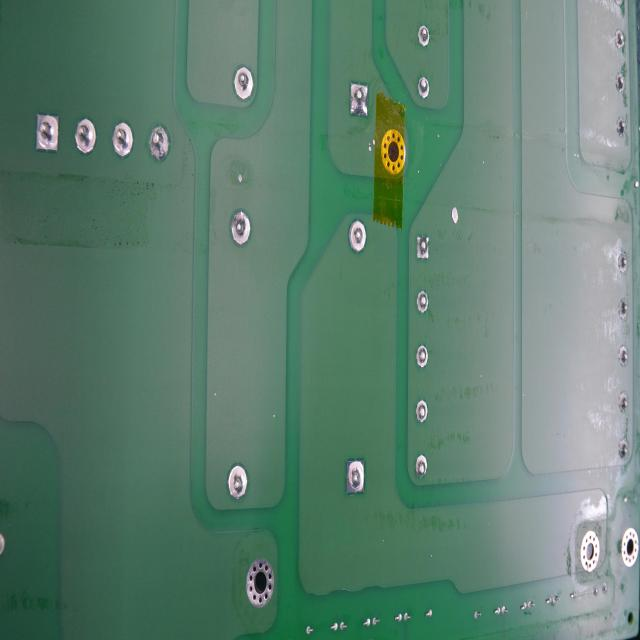spillover: (447, 202, 464, 229), (364, 127, 376, 163), (235, 172, 246, 188)
